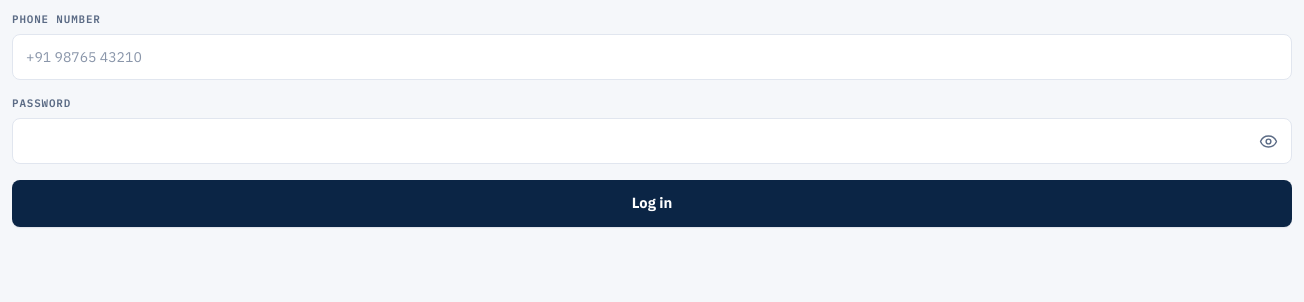
Test: LoginForm › renders a safe server error in the status area
Type "9876543210" into the field labelled "Phone number" at (652, 57), box [12, 34, 1292, 80]
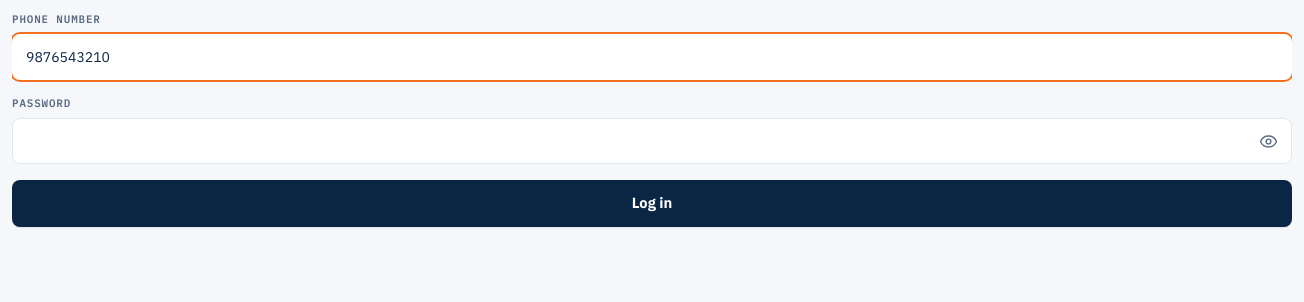
Type "correct horse" into the password field labelled "Password" at (652, 141), box [12, 118, 1292, 164]
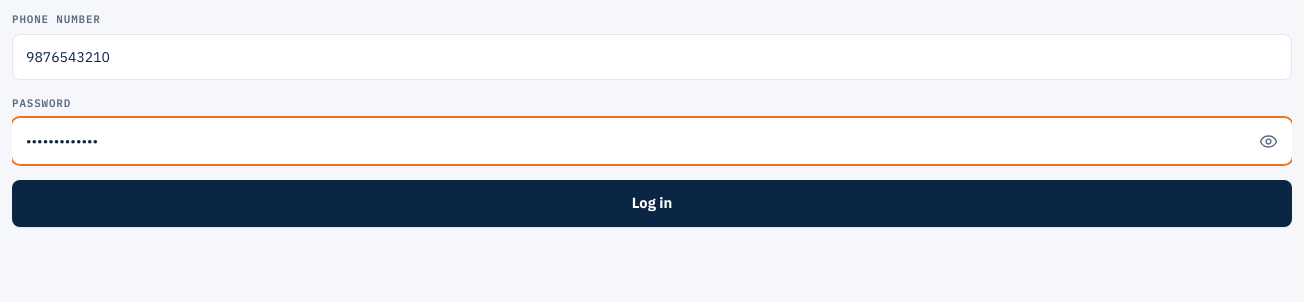
Click the button "Log in" at (652, 203), box [12, 180, 1292, 226]
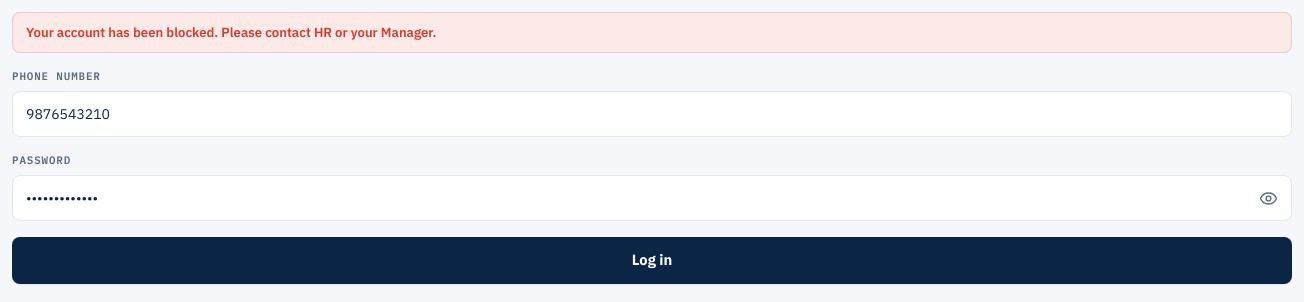
Result: the message reads "Your account has been blocked. Please contact HR or your Manager." at [26, 24, 436, 41]
